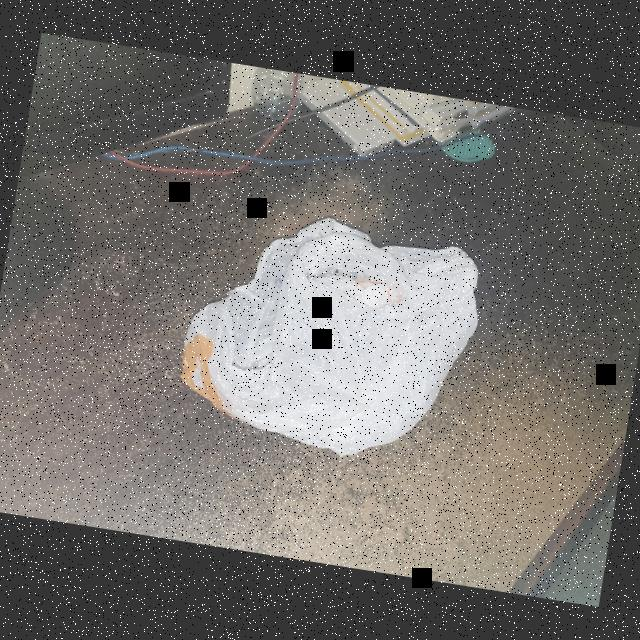plastic_bag: (166, 196, 498, 486)
